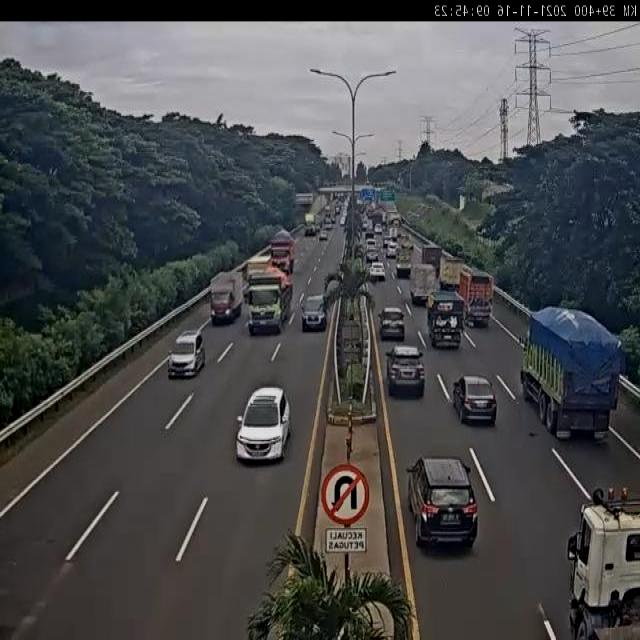Car: (407, 456, 479, 550), (233, 386, 292, 460), (452, 374, 498, 426), (385, 344, 426, 398), (168, 331, 206, 379), (377, 307, 406, 342), (301, 293, 327, 332), (368, 261, 386, 282), (366, 245, 378, 262), (366, 237, 376, 253), (386, 242, 396, 258), (382, 235, 392, 249), (318, 230, 328, 242), (374, 223, 383, 234), (340, 216, 346, 227)
Truck: (521, 308, 624, 440), (566, 482, 640, 640), (248, 266, 292, 336), (426, 290, 468, 348), (457, 267, 494, 326), (208, 269, 245, 324), (268, 229, 296, 275), (409, 264, 437, 304), (245, 252, 272, 285), (439, 256, 466, 289), (420, 244, 442, 278), (394, 246, 413, 280), (304, 212, 318, 238), (398, 232, 414, 253), (386, 210, 402, 230), (389, 226, 398, 242)
